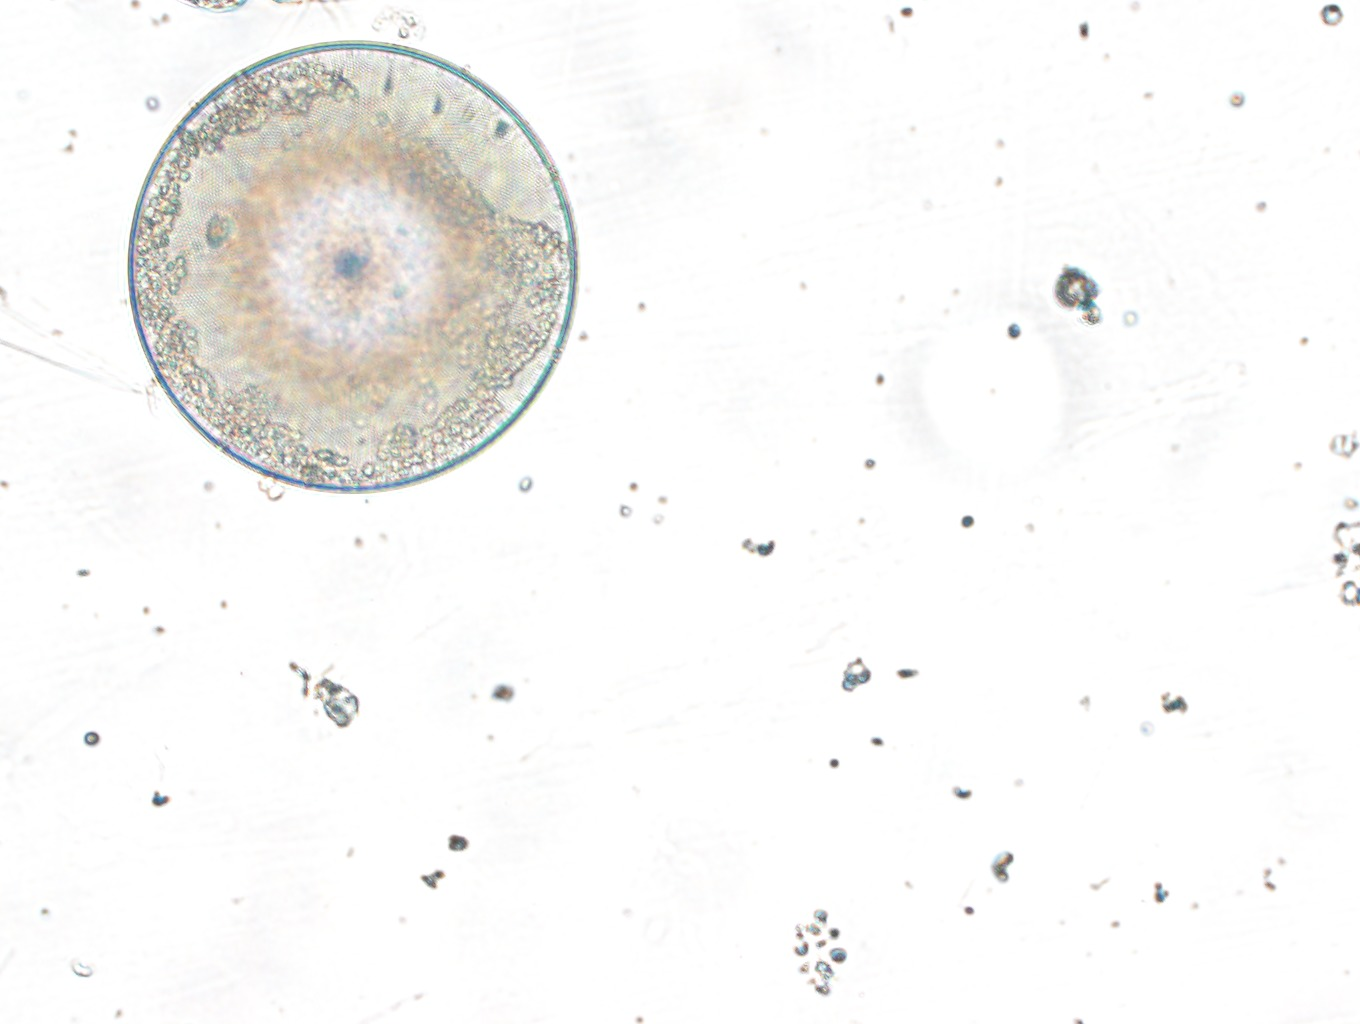coscinodiscus: (120, 43, 583, 495)
